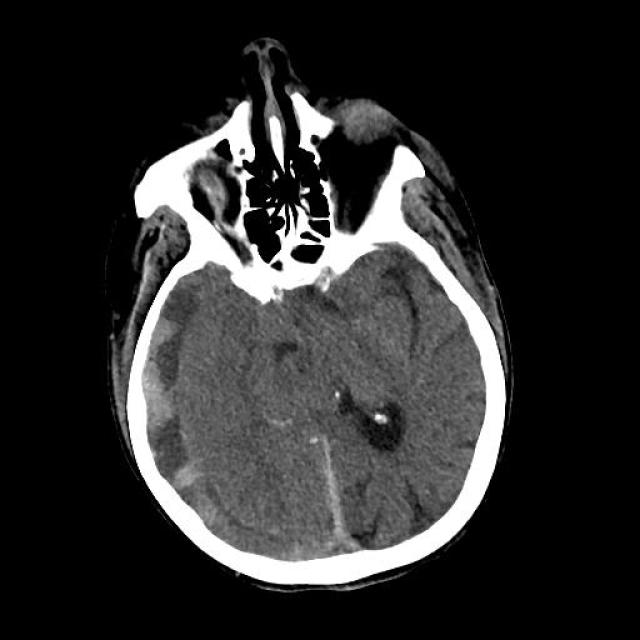Subdural: (308, 438, 358, 568)
